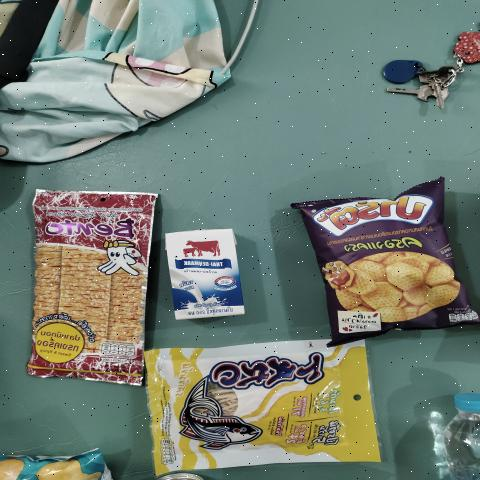bento_red: (33, 194, 155, 374)
party_purple: (321, 179, 447, 337)
taro_yellow: (158, 342, 362, 466)
thai_denmark: (169, 228, 235, 326)
